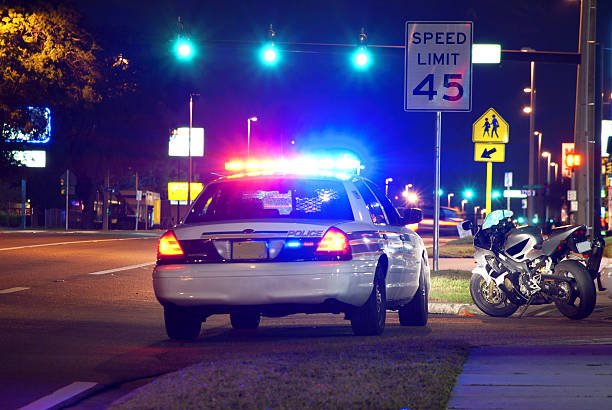bike: (470, 214, 595, 322)
car: (154, 171, 428, 338)
pedestrain: (471, 107, 509, 144)
